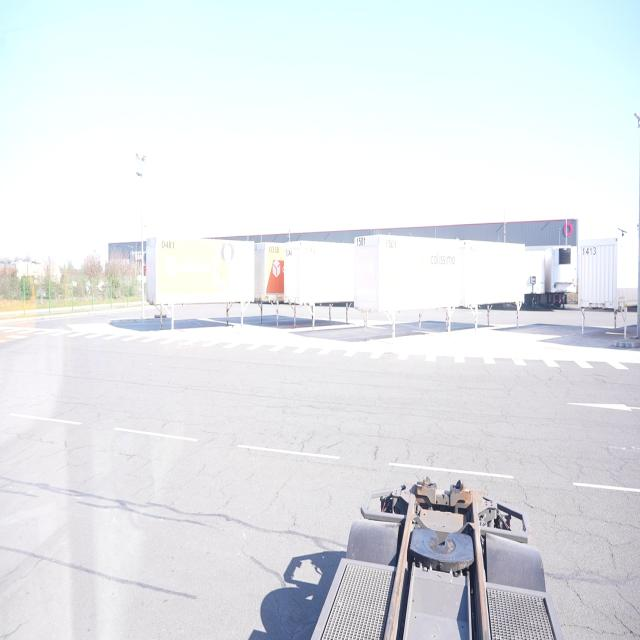Code: (578, 243, 598, 263), (158, 236, 179, 251), (354, 233, 370, 252), (268, 244, 280, 259)
